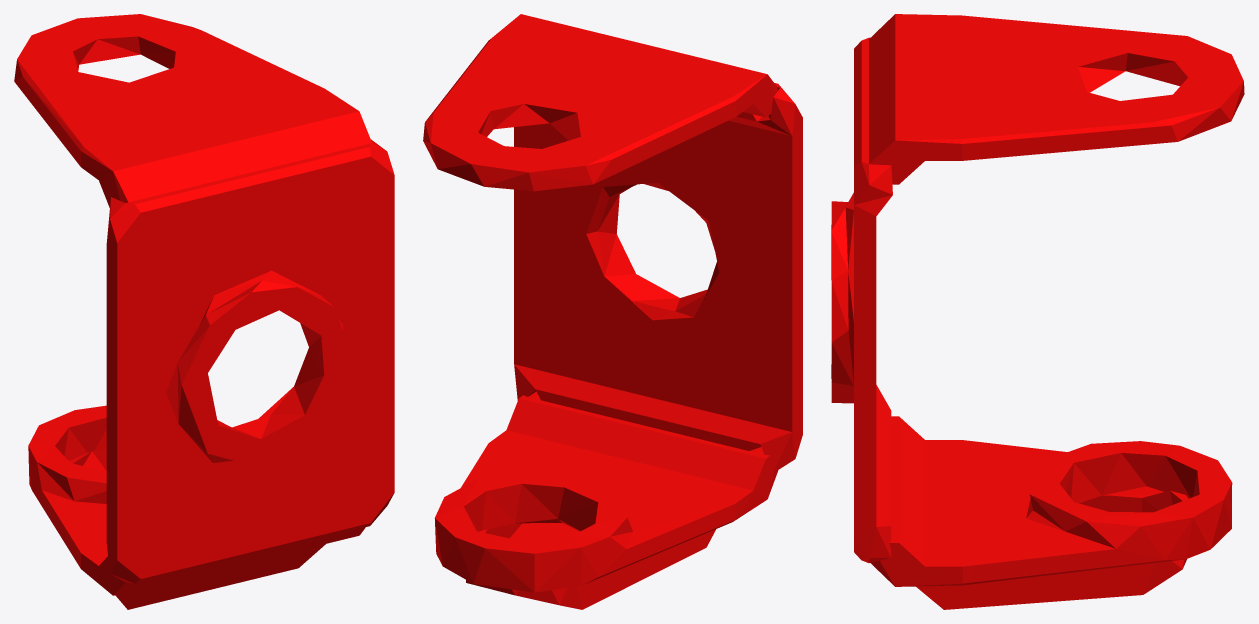
The model's file is warec-RL_ANKLE_Y-visual-0.dae.
3 views of the same model, side by side, from view 1: azimuth 30°, elevation 25°; view 2: azimuth 150°, elevation 25°; view 3: azimuth 270°, elevation 25° (orthographic). The views are drawn at different scales.
Parts seen in each view (by area): view 1: root; view 2: root; view 3: root.
Boxes of the visible parts, x1=… form: root: x1=14, y1=14, x2=394, y2=609; root: x1=423, y1=14, x2=802, y2=609; root: x1=831, y1=14, x2=1244, y2=609.
Size of the model in its own units: 0.09 by 0.144 by 0.1103.
